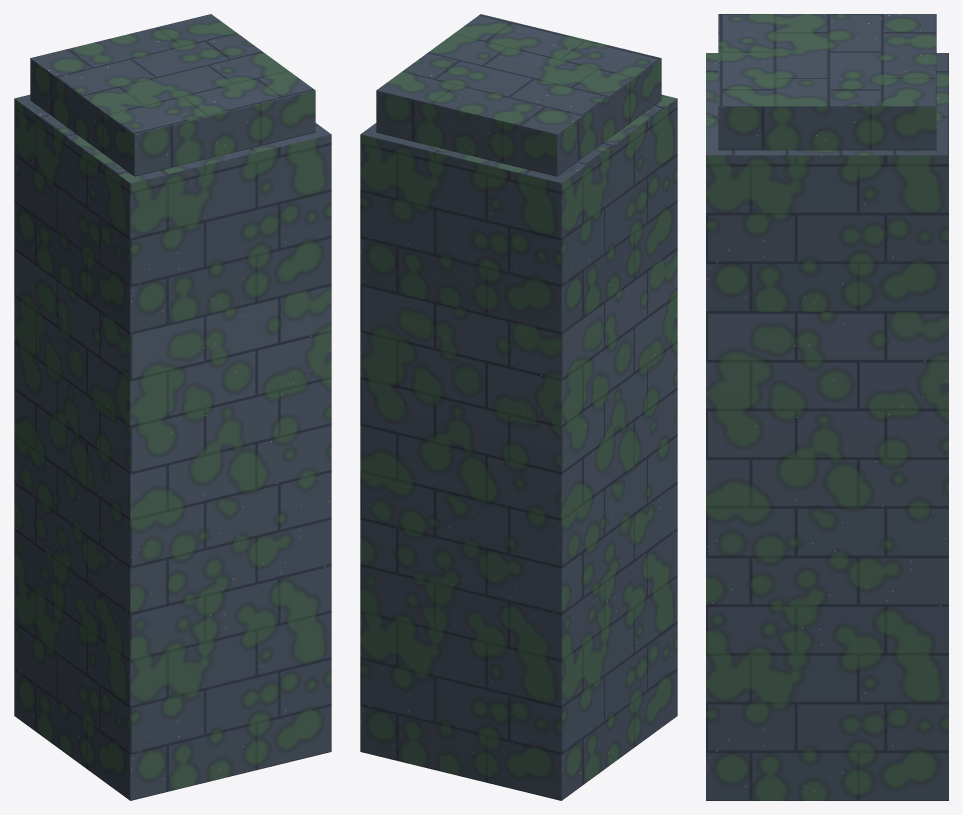
File: pillar_broken.obj
The picture shows the model from 3 angles, left to right: view 1: azimuth 30°, elevation 25°; view 2: azimuth 150°, elevation 25°; view 3: azimuth 270°, elevation 25°; orthographic projection. The views are drawn at different scales.
Parts seen in each view (by area): view 1: pillar_broken; view 2: pillar_broken; view 3: pillar_broken.
Part boxes in pixels (x1,y1,x2,y2): pillar_broken: (14,14,331,800); pillar_broken: (360,14,677,800); pillar_broken: (706,14,948,800).
Size of the model in its own units: 0.45 by 1.41 by 0.45.
Materials: 1 (1 with a texture image).
